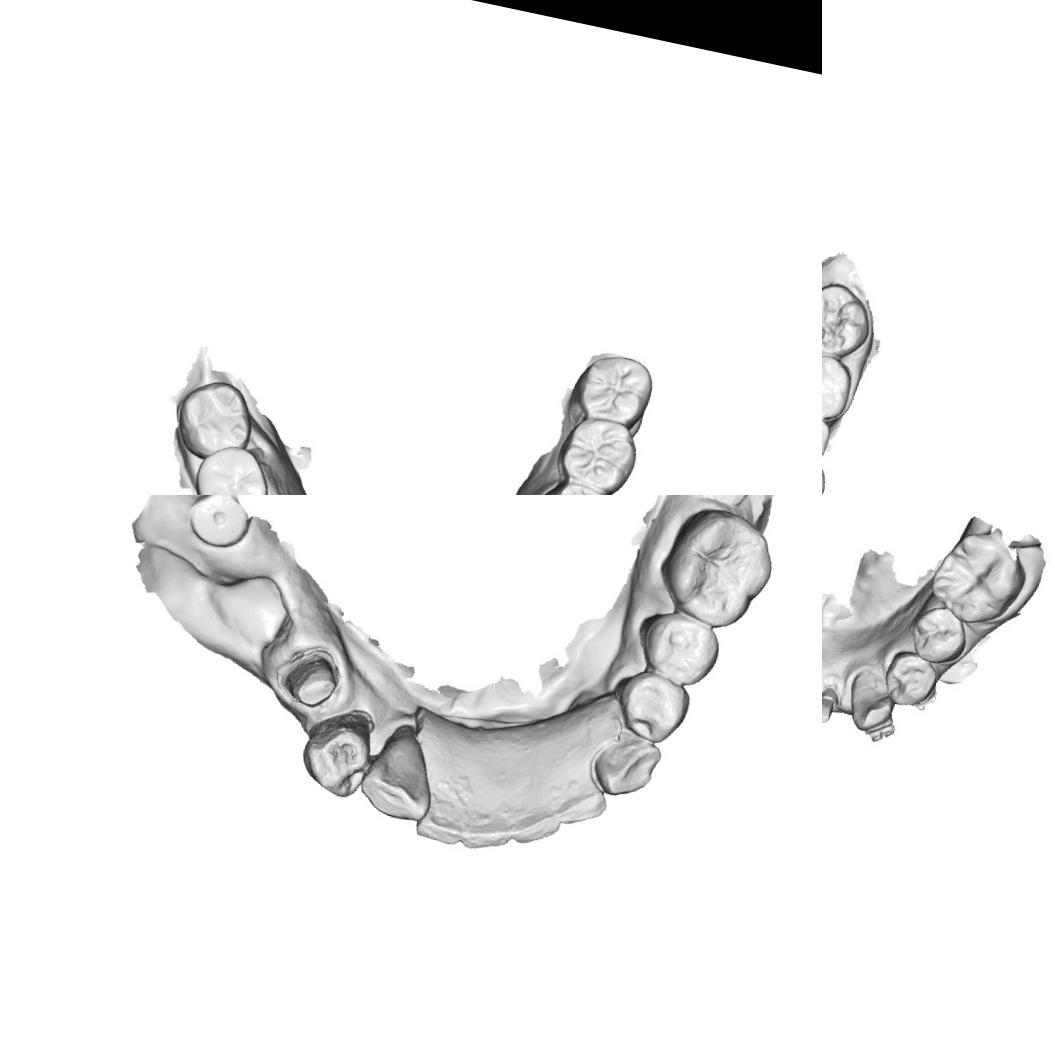abutment: (822, 680, 841, 732)
canine: (352, 728, 446, 828), (586, 727, 661, 804), (842, 665, 902, 739)
crown: (284, 642, 344, 714)
implant: (182, 495, 256, 556), (691, 495, 757, 514)
incisor: (506, 802, 572, 858), (453, 808, 520, 861), (551, 778, 614, 834), (413, 804, 476, 855)
molar: (922, 522, 1034, 636), (666, 510, 776, 624), (168, 371, 262, 466), (553, 412, 643, 495), (571, 348, 660, 429), (822, 275, 878, 367), (184, 440, 276, 495), (822, 346, 857, 424), (822, 407, 834, 463)
premolar: (292, 706, 378, 805), (638, 609, 728, 694), (618, 671, 690, 746), (902, 600, 971, 672), (874, 645, 942, 714), (537, 478, 613, 495)
